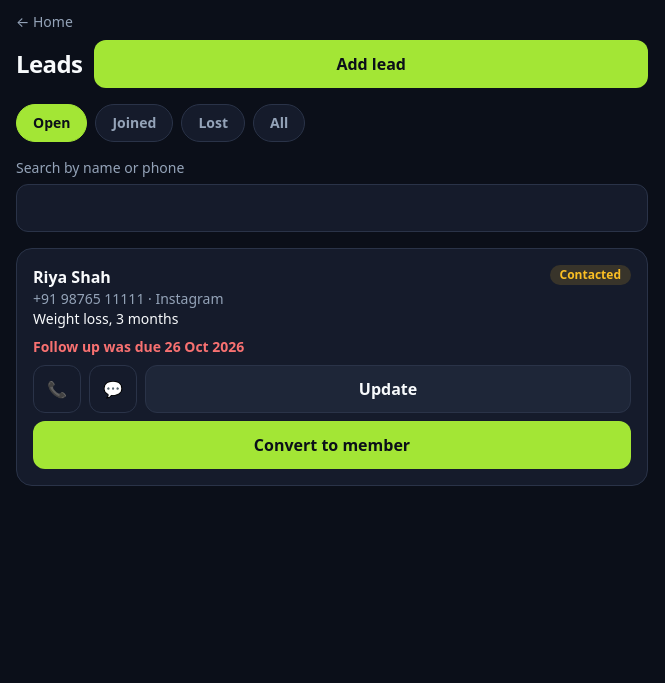
Test: leads › Convert to member opens New member with their name and number
Click the button "Convert to member".
click(332, 445)  # box left=33, top=421, right=631, bottom=469
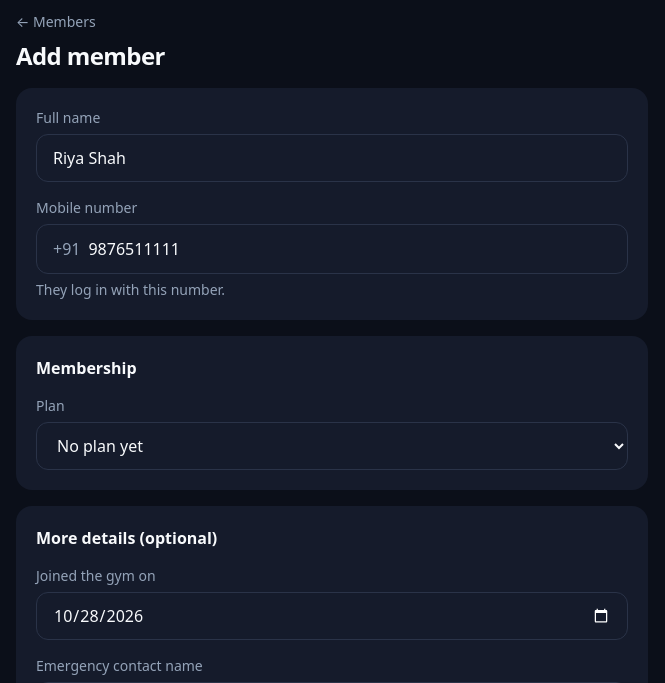
Now the field labelled "Full name" holds "Riya Shah", box left=36, top=134, right=628, bottom=182
Now the field labelled "Mobile number" holds "9876511111", box left=88, top=225, right=627, bottom=273
